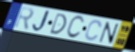C: (65, 15, 85, 40), (83, 19, 102, 42)
D: (48, 12, 68, 35)
J: (31, 10, 53, 33)
N: (98, 21, 120, 46)
R: (13, 6, 35, 32)
